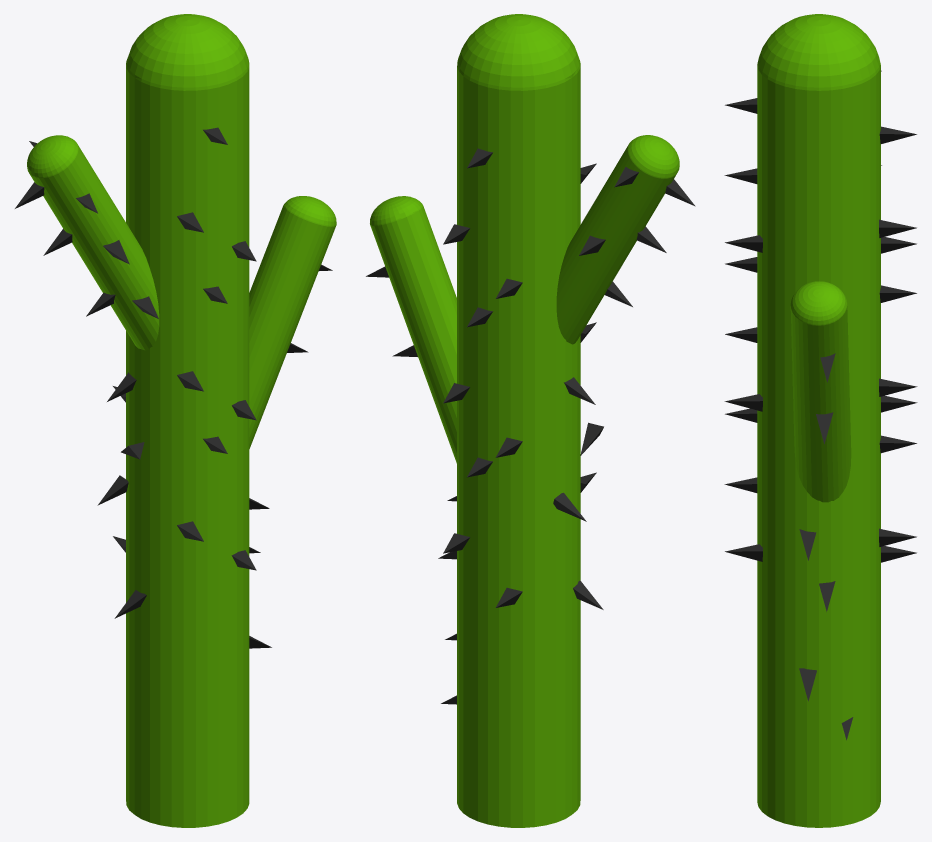
Rendered from cactus.fbx.
The picture shows the model from 3 angles, left to right: view 1: azimuth 30°, elevation 25°; view 2: azimuth 150°, elevation 25°; view 3: azimuth 270°, elevation 25°; orthographic projection.
Parts seen in each view (by area): view 1: Sphere.002; view 2: Sphere.002; view 3: Sphere.002.
Boxes of the visible parts, bbox=[...] form: Sphere.002: bbox=[15, 14, 336, 827]; Sphere.002: bbox=[366, 14, 695, 827]; Sphere.002: bbox=[724, 14, 917, 827].
Bounding box in the file's own units: 243 × 558 × 125.
